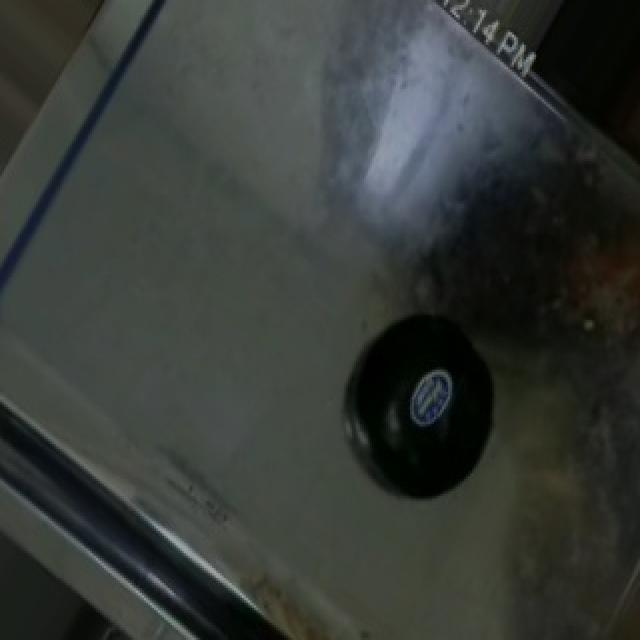Fruit: (334, 325, 524, 518), (520, 0, 640, 174)
